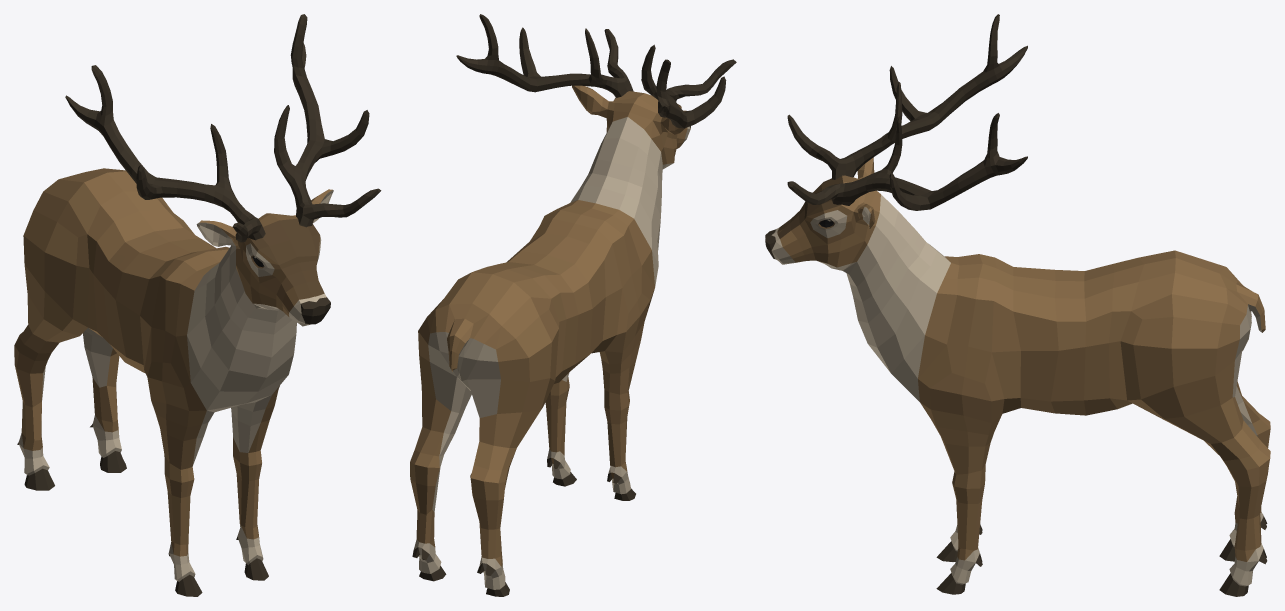
File: stag.glb
3 views of the same model, side by side, from view 1: azimuth 30°, elevation 25°; view 2: azimuth 150°, elevation 25°; view 3: azimuth 270°, elevation 25° (orthographic). The views are drawn at different scales.
Parts seen in each view (by area): view 1: Stag, Stag_Horns; view 2: Stag, Stag_Horns; view 3: Stag, Stag_Horns.
Part boxes in pixels (x1,y1,x2,y2): Stag: (14, 168, 333, 596); Stag_Horns: (65, 14, 381, 242); Stag: (410, 85, 690, 596); Stag_Horns: (456, 14, 736, 128); Stag: (765, 157, 1270, 596); Stag_Horns: (787, 14, 1027, 210).
Size of the model in its own units: 2.54 by 5.38 by 4.84.
